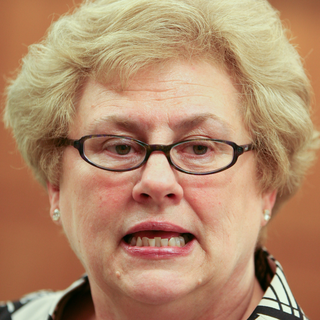eye: (97, 136, 140, 161), (176, 135, 215, 158)
